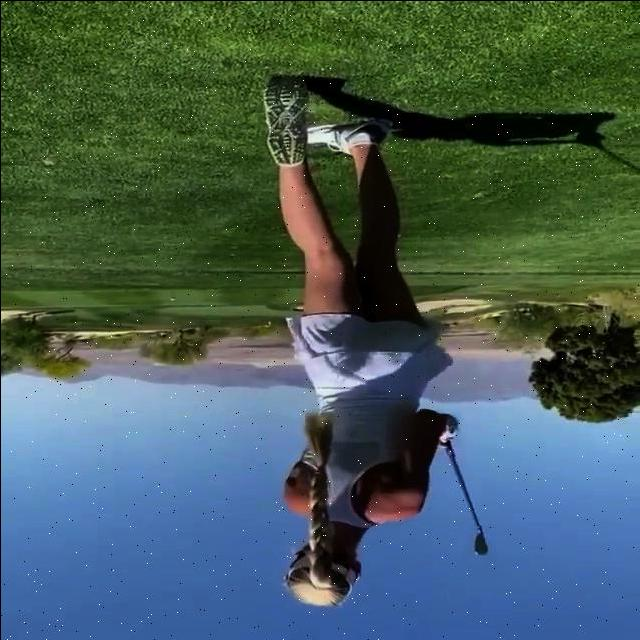ClubHandle: (444, 439, 486, 554)
ClubHead: (471, 533, 486, 554)
